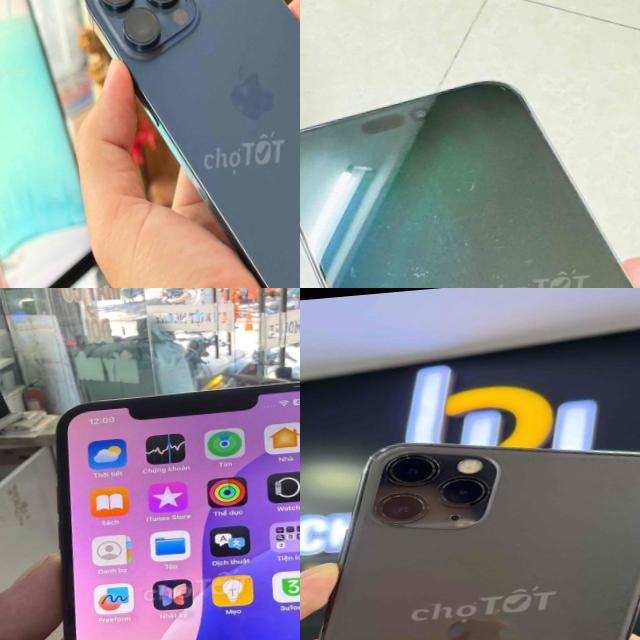gen_11: (300, 413, 640, 640)
gen_15: (300, 59, 640, 288), (72, 0, 300, 288)
gen_x_xs: (33, 373, 300, 640)
scratch: (431, 166, 492, 200), (389, 258, 447, 288), (344, 244, 374, 283), (498, 72, 516, 104)
